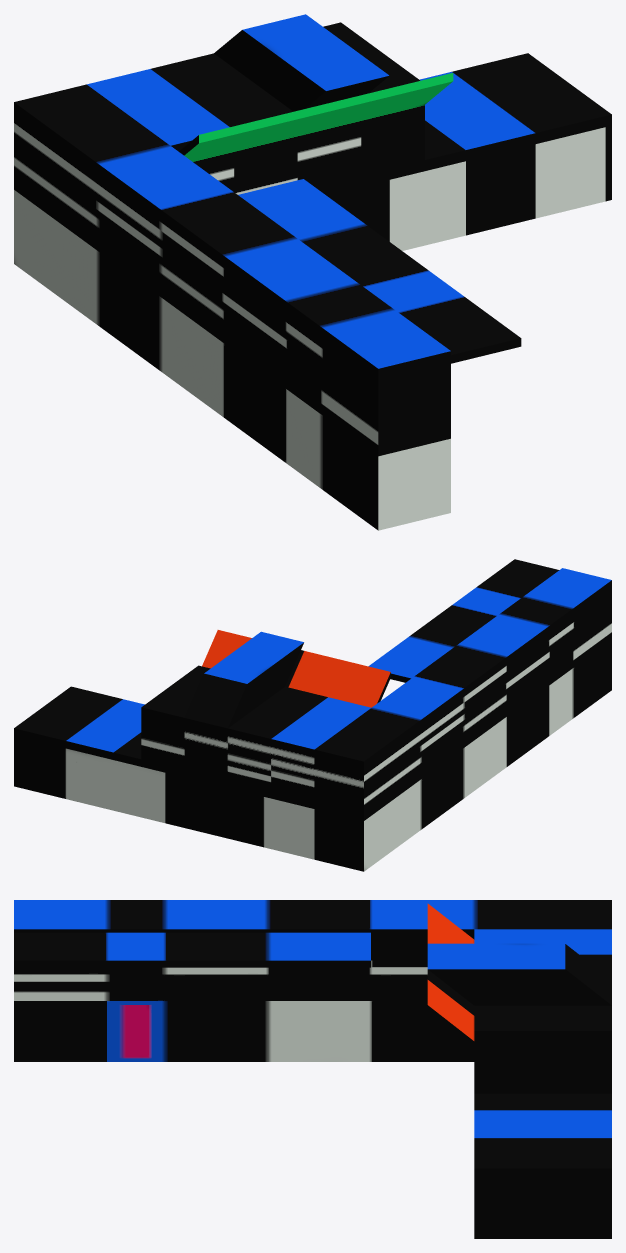
Rendered from house 4 do 10 .fbx.
The picture shows the model from 3 angles, top to bottom: view 1: azimuth 30°, elevation 25°; view 2: azimuth 150°, elevation 25°; view 3: azimuth 270°, elevation 25°; orthographic projection. The views are drawn at different scales.
Visible parts, largest first — view 1: Cube; view 2: Cube; view 3: Cube.
Boxes of the visible parts, x1,y1,x2,y2 form: Cube: (14,14,611,530); Cube: (14,559,611,871); Cube: (14,900,611,1238).
Bounding box in the file's own units: 4051 × 1553 × 4972.
